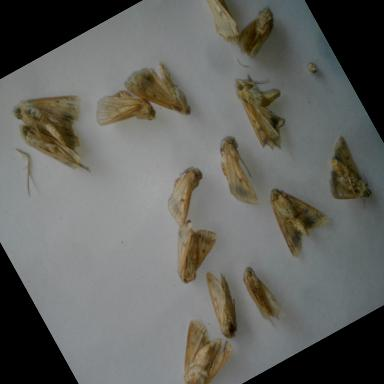abw: (222, 55, 311, 162), (3, 68, 100, 166), (256, 167, 345, 265), (13, 100, 98, 198), (153, 303, 250, 384), (116, 50, 201, 142), (304, 130, 384, 224), (152, 208, 236, 292), (200, 128, 276, 219), (188, 260, 260, 348), (84, 72, 164, 151), (149, 160, 225, 234), (232, 256, 296, 339), (219, 0, 293, 68), (181, 0, 253, 48)
